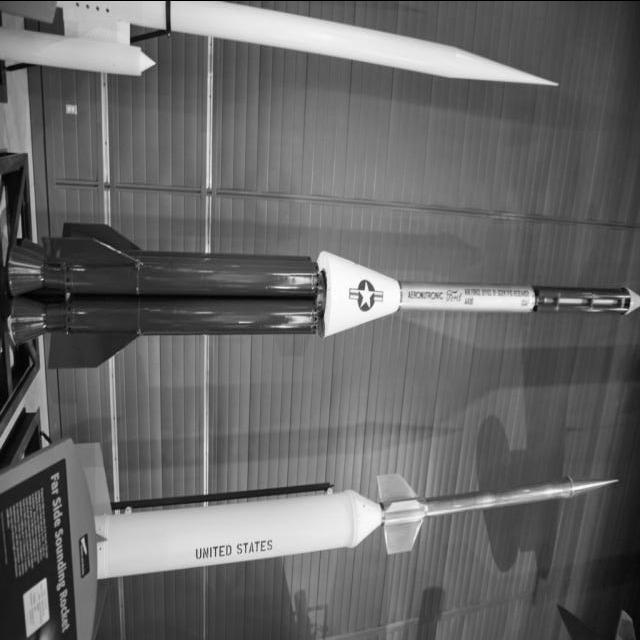missile: (140, 0, 590, 103), (91, 473, 391, 591), (378, 464, 622, 584), (0, 13, 180, 102), (386, 271, 640, 321)
